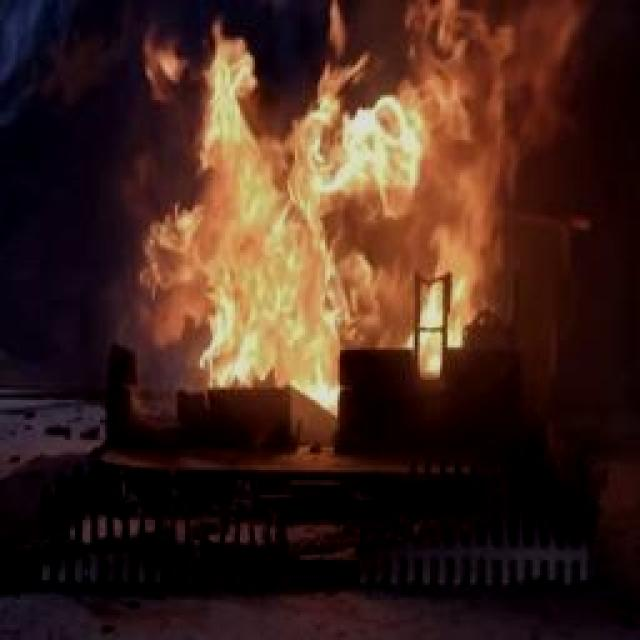fire: (114, 4, 596, 422)
